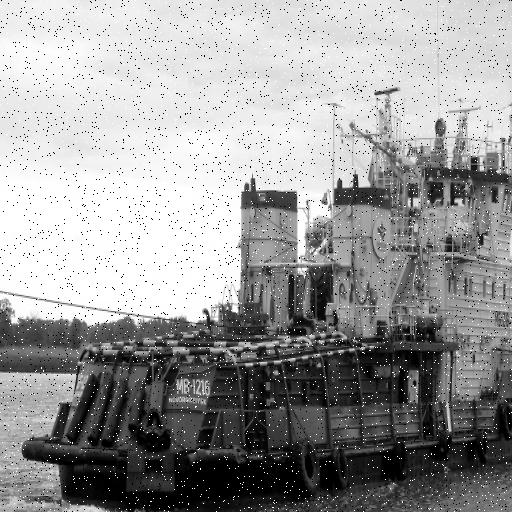tugboat: (21, 68, 512, 512)
